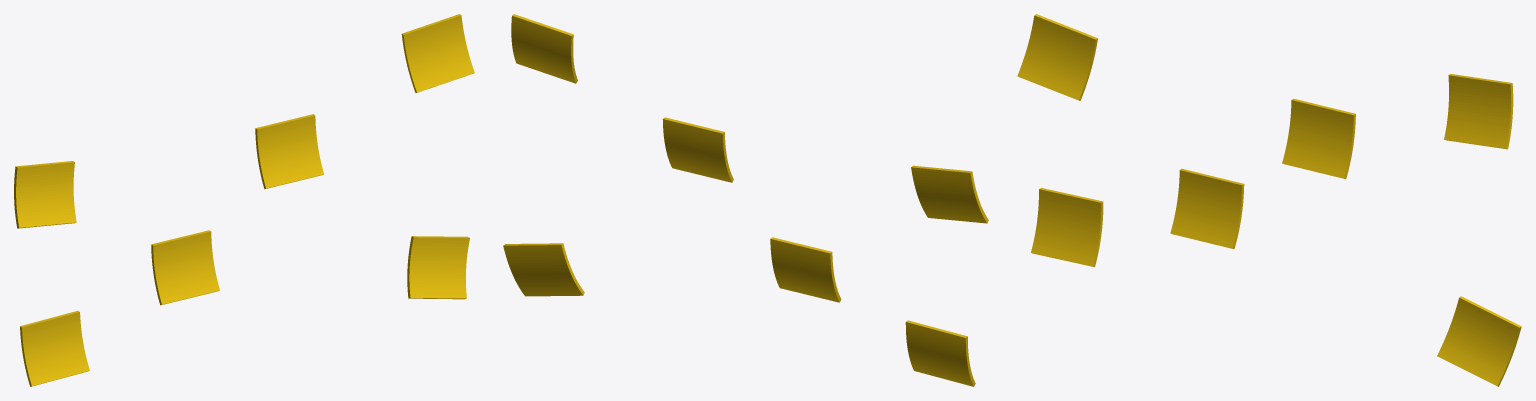
Rendered from Postit Multi.glb.
The picture shows the model from 3 angles, left to right: view 1: azimuth 30°, elevation 25°; view 2: azimuth 150°, elevation 25°; view 3: azimuth 330°, elevation 25°; orthographic projection. The views are drawn at different scales.
Parts seen in each view (by area): view 1: Postit Multi; view 2: Postit Multi; view 3: Postit Multi.
Part boxes in pixels (x1,y1,x2,y2): Postit Multi: (14,14,474,386); Postit Multi: (503,14,988,386); Postit Multi: (1017,14,1521,386).
Size of the model in its own units: 0.7946 by 0.4587 by 0.0323.
